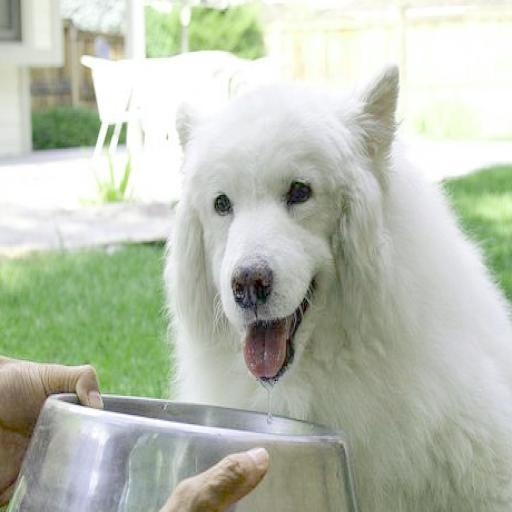dog_face: (183, 81, 394, 388)
